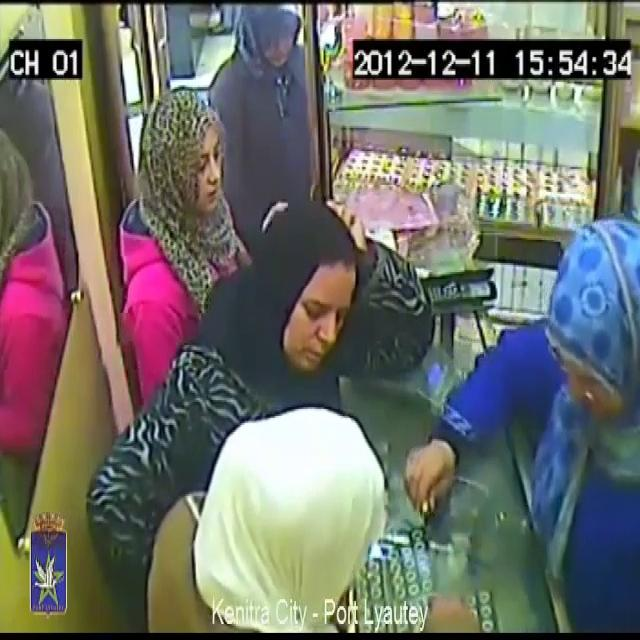Product: (418, 484, 440, 527)
normal: (121, 372, 401, 640), (95, 65, 228, 334), (246, 195, 378, 412), (223, 0, 323, 188)
shoplifting: (417, 163, 640, 640)
